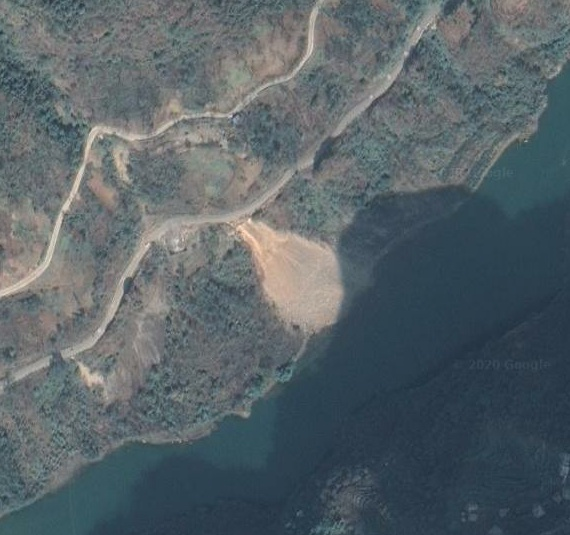slope: (236, 215, 346, 332)
